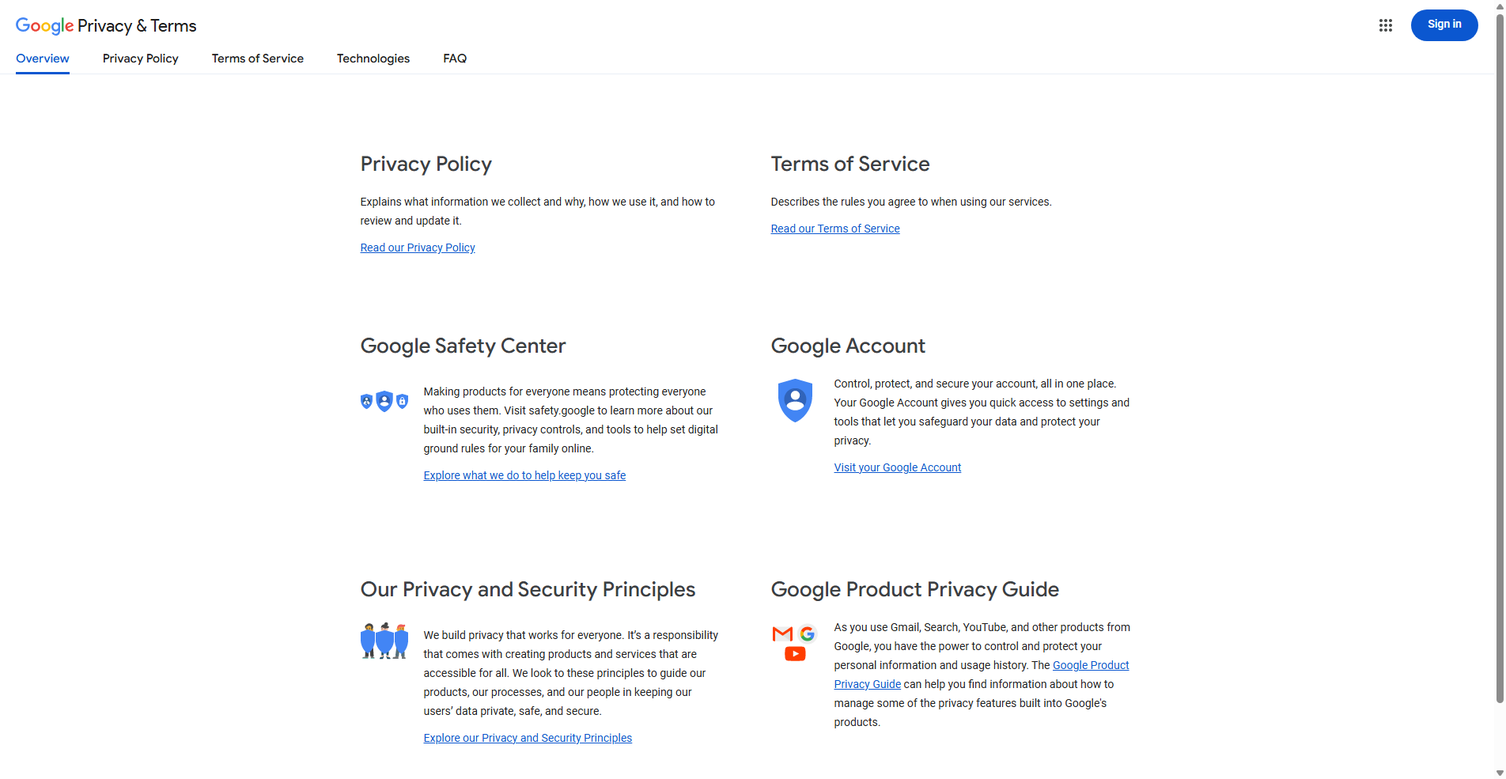button: (1370, 9, 1402, 41)
link: (834, 659, 1129, 691), (16, 8, 197, 46), (237, 34, 316, 100), (124, 34, 203, 85), (350, 34, 459, 69), (0, 34, 91, 71), (424, 731, 632, 745), (424, 469, 626, 482), (492, 34, 555, 69), (1411, 9, 1478, 41), (212, 51, 304, 72), (771, 222, 900, 236), (834, 461, 961, 474), (360, 241, 475, 255), (103, 51, 179, 72), (337, 51, 410, 72), (12, 5, 70, 28), (16, 51, 69, 75), (443, 51, 467, 72)
